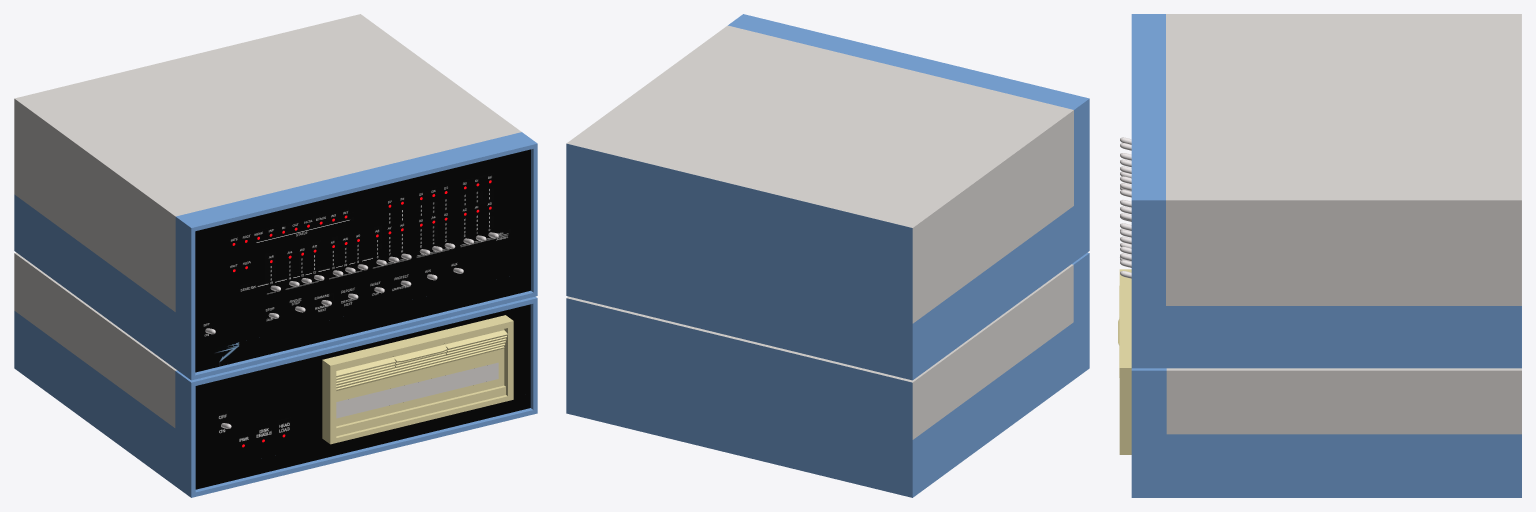
The model's file is altair_8800_and_disk_drive.glb.
3 renders of one model, left to right at view 1: azimuth 30°, elevation 25°; view 2: azimuth 150°, elevation 25°; view 3: azimuth 270°, elevation 25°, orthographic. The views are drawn at different scales.
Parts seen in each view (by area): view 1: Object_4, Object_7, Object_19, Object_16, Object_6, Object_15, Object_9; view 2: Object_4; view 3: Object_4, Object_19, Object_9.
Boxes of the visible parts, <box> form: Object_4: <box>14,14,537,497</box>; Object_7: <box>195,149,530,352</box>; Object_19: <box>322,315,513,444</box>; Object_16: <box>195,304,530,474</box>; Object_6: <box>195,271,530,372</box>; Object_15: <box>195,393,530,489</box>; Object_9: <box>205,232,498,428</box>; Object_4: <box>566,14,1089,497</box>; Object_4: <box>1131,14,1521,497</box>; Object_19: <box>1118,269,1131,454</box>; Object_9: <box>1120,137,1131,278</box>.
Size of the model in its own units: 7.26 by 5.41 by 6.65.
8 materials, 7 textured.
